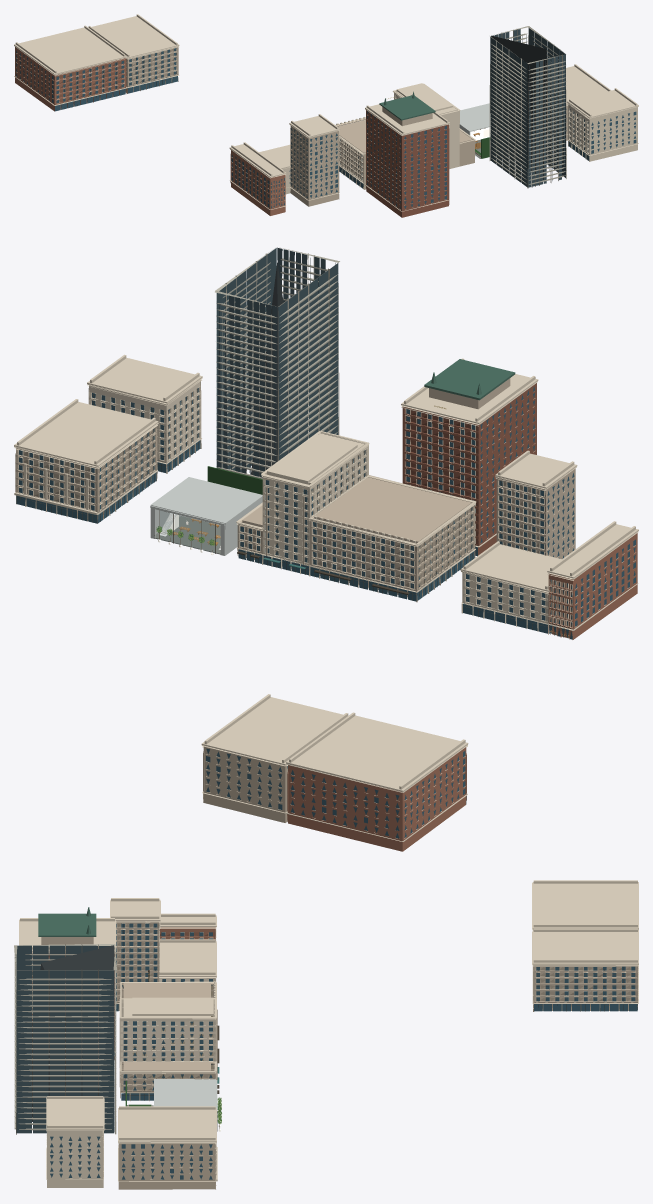
File: north-square-lod.glb
The picture shows the model from 3 angles, top to bottom: view 1: azimuth 30°, elevation 25°; view 2: azimuth 150°, elevation 25°; view 3: azimuth 270°, elevation 25°; orthographic projection. The views are drawn at different scales.
Visible parts, largest first — view 1: Grand Hyatt / Hyatt smoked bronze glass, Beacon Grand / Beacon terracotta brick, Grand Hyatt / Hyatt precast concrete, Handlery Union Square / carved warm stone, Taj Campton Place / carved warm stone, Handlery Union Square / Handlery brick, Chancellor Hotel / honed limestone, Elkan Gunst Building / carved warm stone, Inn at Union Square / Handlery brick, Grand Hyatt / roof and interior shade, Beacon Grand / deep recessed glazing, Tiffany & Co. / carved warm stone (+17 smaller); view 2: Grand Hyatt / Hyatt smoked bronze glass, Saks Fifth Avenue / honed limestone, Grand Hyatt / Hyatt precast concrete, Handlery Union Square / Handlery brick, Beacon Grand / Beacon terracotta brick, 278 Post corner / carved warm stone, Handlery Union Square / carved warm stone, Tiffany & Co. / carved warm stone, Taj Campton Place / carved warm stone, Elkan Gunst Building / carved warm stone, Post Powell corner / carved warm stone, 278 Post corner / honed limestone (+23 smaller); view 3: Grand Hyatt / Hyatt smoked bronze glass, Grand Hyatt / Hyatt precast concrete, Tiffany & Co. / carved warm stone, Handlery Union Square / carved warm stone, Taj Campton Place / carved warm stone, Elkan Gunst Building / carved warm stone, 278 Post corner / honed limestone, 278 Post corner / carved warm stone, Elkan Gunst Building / honed limestone, Post Powell corner / carved warm stone, Elkan Gunst Building / deep recessed glazing, Chancellor Hotel / honed limestone (+15 smaller).
Part boxes in pixels (<box>): Grand Hyatt / Hyatt smoked bronze glass: <box>490,28,565,187</box>; Beacon Grand / Beacon terracotta brick: <box>366,110,449,217</box>; Grand Hyatt / Hyatt precast concrete: <box>489,26,566,188</box>; Handlery Union Square / carved warm stone: <box>14,25,126,105</box>; Taj Campton Place / carved warm stone: <box>567,88,638,161</box>; Handlery Union Square / Handlery brick: <box>15,47,126,111</box>; Chancellor Hotel / honed limestone: <box>290,126,339,206</box>; Elkan Gunst Building / carved warm stone: <box>88,14,179,87</box>; Inn at Union Square / Handlery brick: <box>230,150,285,215</box>; Grand Hyatt / roof and interior shade: <box>491,35,546,180</box>; Beacon Grand / deep recessed glazing: <box>367,111,446,208</box>; Tiffany & Co. / carved warm stone: <box>393,83,460,168</box>; Grand Hyatt / Hyatt smoked bronze glass: <box>216,247,338,477</box>; Saks Fifth Avenue / honed limestone: <box>309,475,475,602</box>; Grand Hyatt / Hyatt precast concrete: <box>215,247,339,479</box>; Handlery Union Square / Handlery brick: <box>287,747,466,851</box>; Beacon Grand / Beacon terracotta brick: <box>402,383,536,555</box>; 278 Post corner / carved warm stone: <box>14,399,158,514</box>; Handlery Union Square / carved warm stone: <box>286,712,468,841</box>; Tiffany & Co. / carved warm stone: <box>261,431,369,575</box>; Taj Campton Place / carved warm stone: <box>87,354,202,473</box>; Elkan Gunst Building / carved warm stone: <box>201,694,348,813</box>; Post Powell corner / carved warm stone: <box>460,541,561,634</box>; 278 Post corner / honed limestone: <box>15,427,157,523</box>; Grand Hyatt / Hyatt smoked bronze glass: <box>16,945,114,1133</box>; Grand Hyatt / Hyatt precast concrete: <box>14,944,116,1134</box>; Tiffany & Co. / carved warm stone: <box>119,997,216,1076</box>; Handlery Union Square / carved warm stone: <box>532,880,638,969</box>; Taj Campton Place / carved warm stone: <box>46,1096,104,1187</box>; Elkan Gunst Building / carved warm stone: <box>532,928,638,1003</box>; 278 Post corner / honed limestone: <box>118,1142,216,1189</box>; 278 Post corner / carved warm stone: <box>118,1106,217,1181</box>; Elkan Gunst Building / honed limestone: <box>533,965,637,1011</box>; Post Powell corner / carved warm stone: <box>158,939,216,987</box>; Elkan Gunst Building / deep recessed glazing: <box>534,966,637,1011</box>; Chancellor Hotel / honed limestone: <box>116,921,159,1010</box>.
Size of the model in its own units: 315 by 94 by 323.
